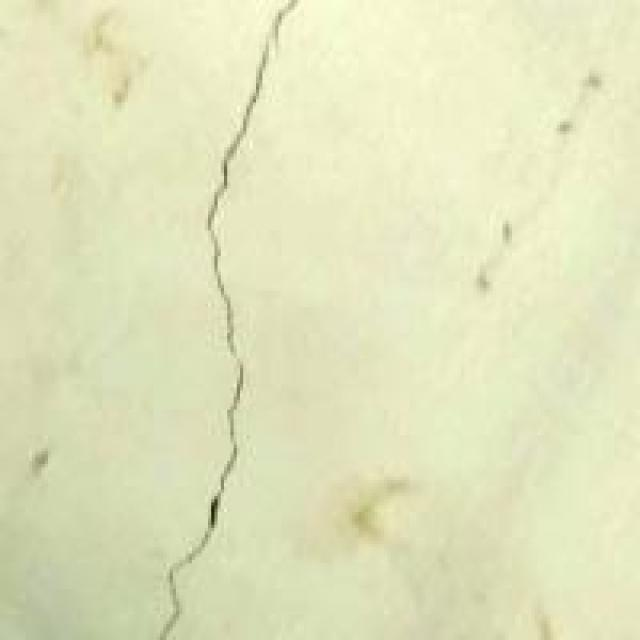Crack: (141, 0, 343, 637)
